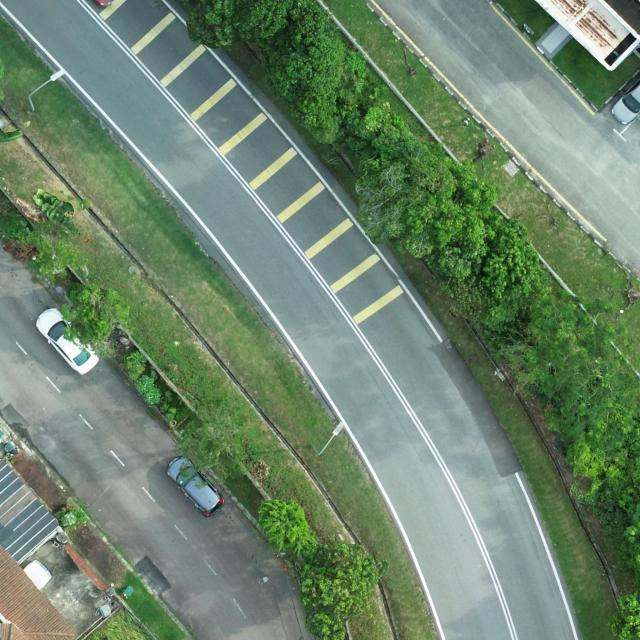Tree: (479, 286, 630, 450), (352, 140, 503, 286), (258, 0, 371, 143), (563, 400, 640, 590), (438, 211, 551, 327), (294, 540, 389, 640), (184, 0, 324, 50), (180, 418, 258, 490), (61, 282, 130, 358), (11, 220, 88, 282), (258, 498, 317, 556)
